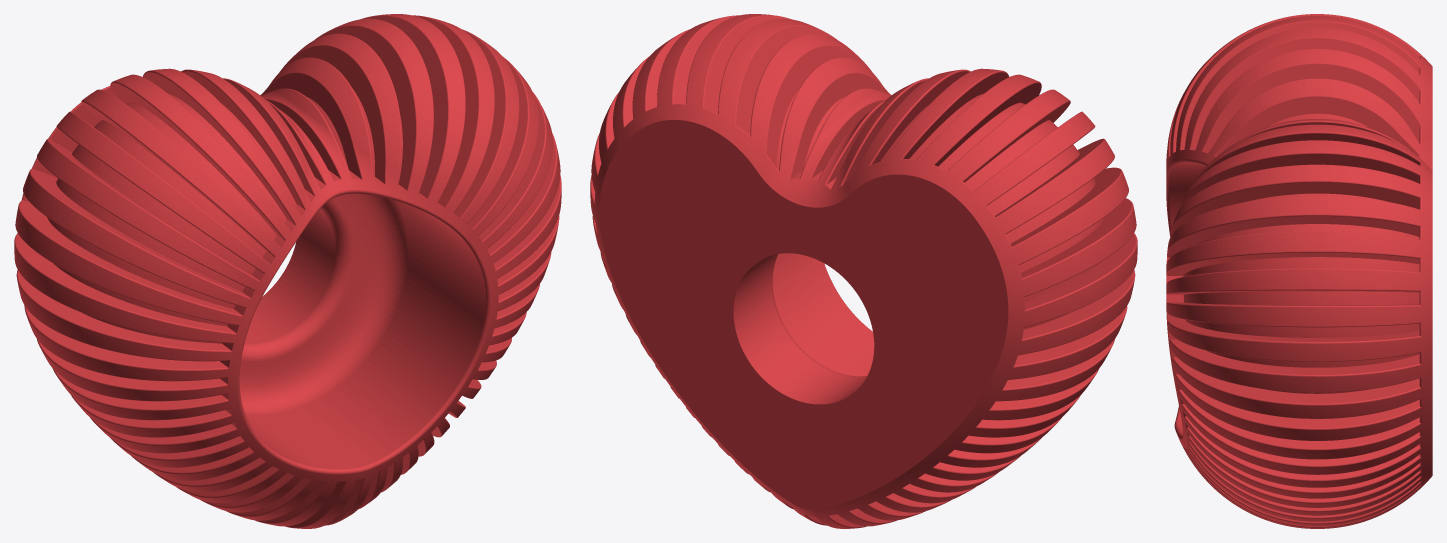
The model's file is portavelas-corazon-acanalado.glb.
3 renders of one model, left to right at view 1: azimuth 30°, elevation 25°; view 2: azimuth 150°, elevation 25°; view 3: azimuth 270°, elevation 25°, orthographic. The views are drawn at different scales.
Bounding box in the file's own units: 86.09 × 75 × 41.
